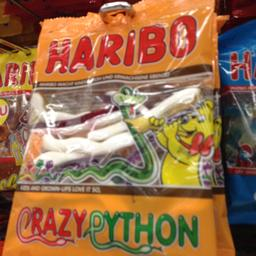candy: (10, 2, 228, 254)
